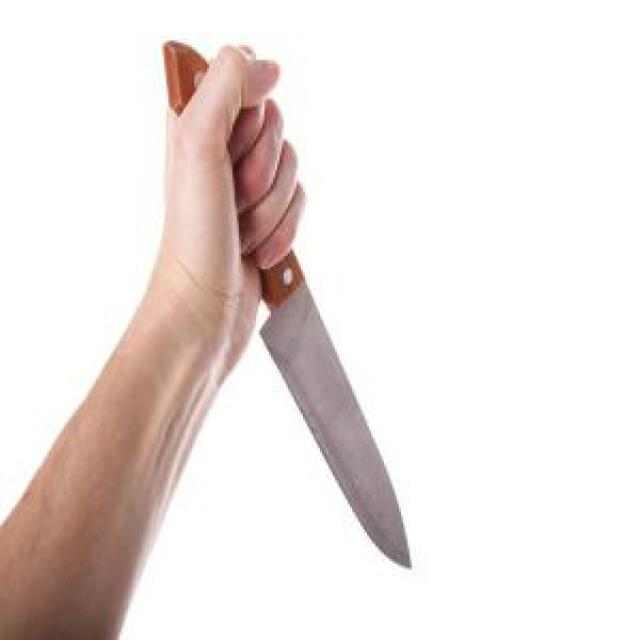knife: (158, 40, 417, 574)
